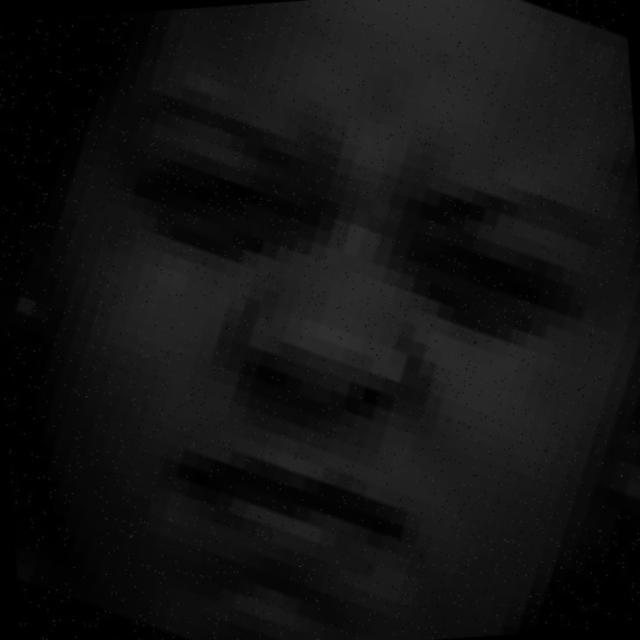Disgust: (55, 49, 602, 640)
